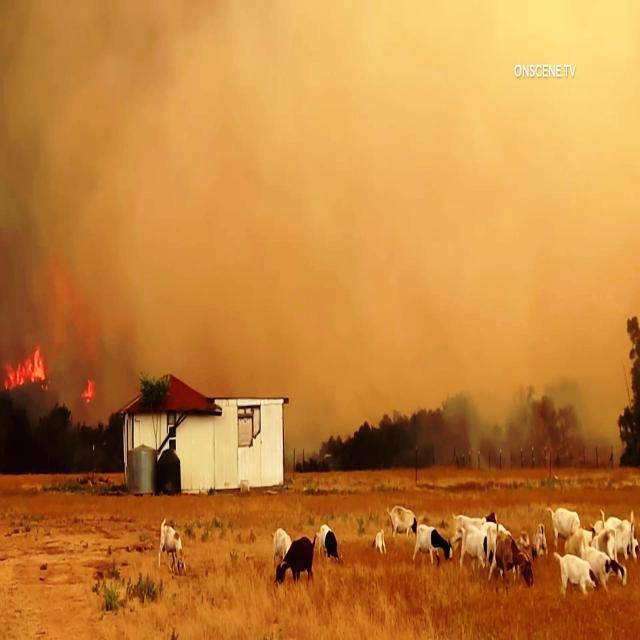Fire: (10, 346, 57, 398), (81, 381, 97, 409)
Smoke: (0, 0, 640, 352), (290, 362, 640, 465)
